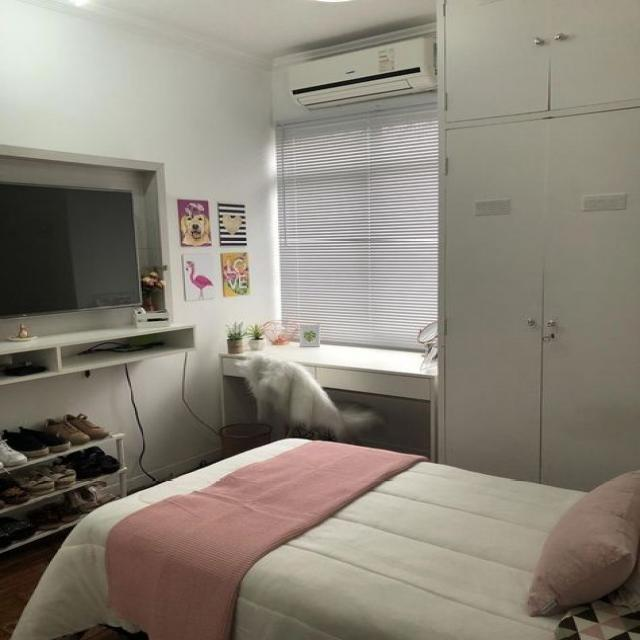AC: (285, 35, 438, 111)
AIO PC-Monitor-TV: (0, 181, 143, 319)
Lemari: (435, 0, 639, 493)
